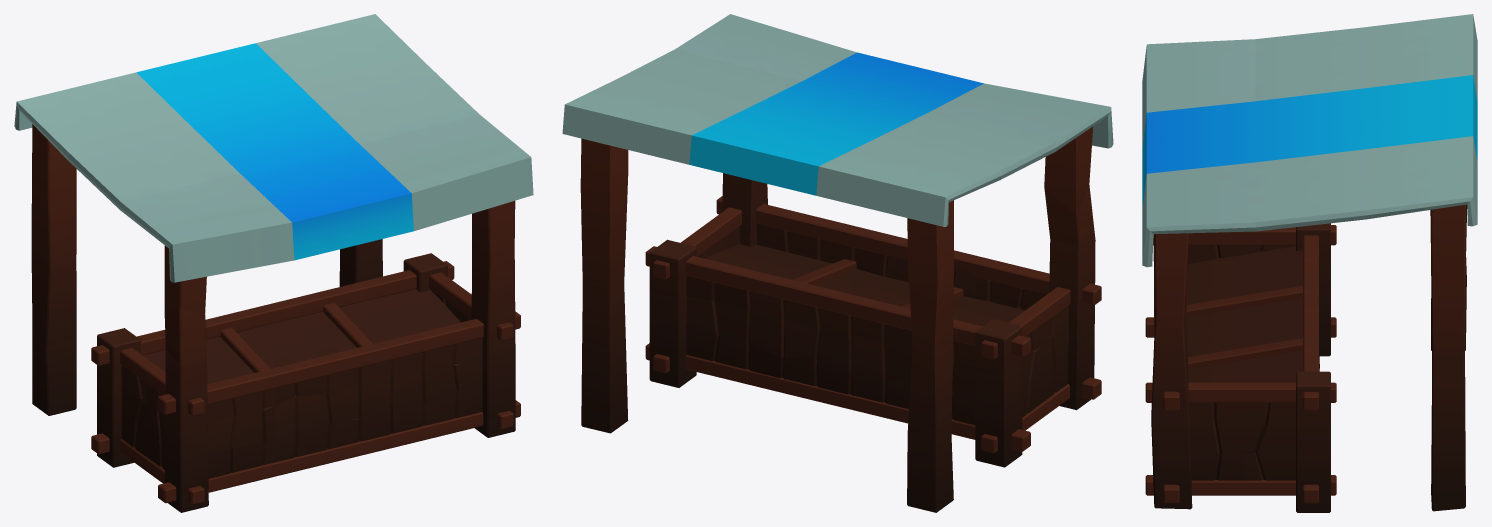
File: FBX_MarketEmpty 1.fbx
The picture shows the model from 3 angles, left to right: view 1: azimuth 30°, elevation 25°; view 2: azimuth 150°, elevation 25°; view 3: azimuth 270°, elevation 25°; orthographic projection. The views are drawn at different scales.
Visible parts, largest first — view 1: Cube.003; view 2: Cube.003; view 3: Cube.003.
Boxes of the visible parts, <box> form: Cube.003: <box>14,14,533,512</box>; Cube.003: <box>562,14,1113,512</box>; Cube.003: <box>1142,14,1477,512</box>.
Size of the model in its own units: 3.13 by 2.55 by 2.41.
